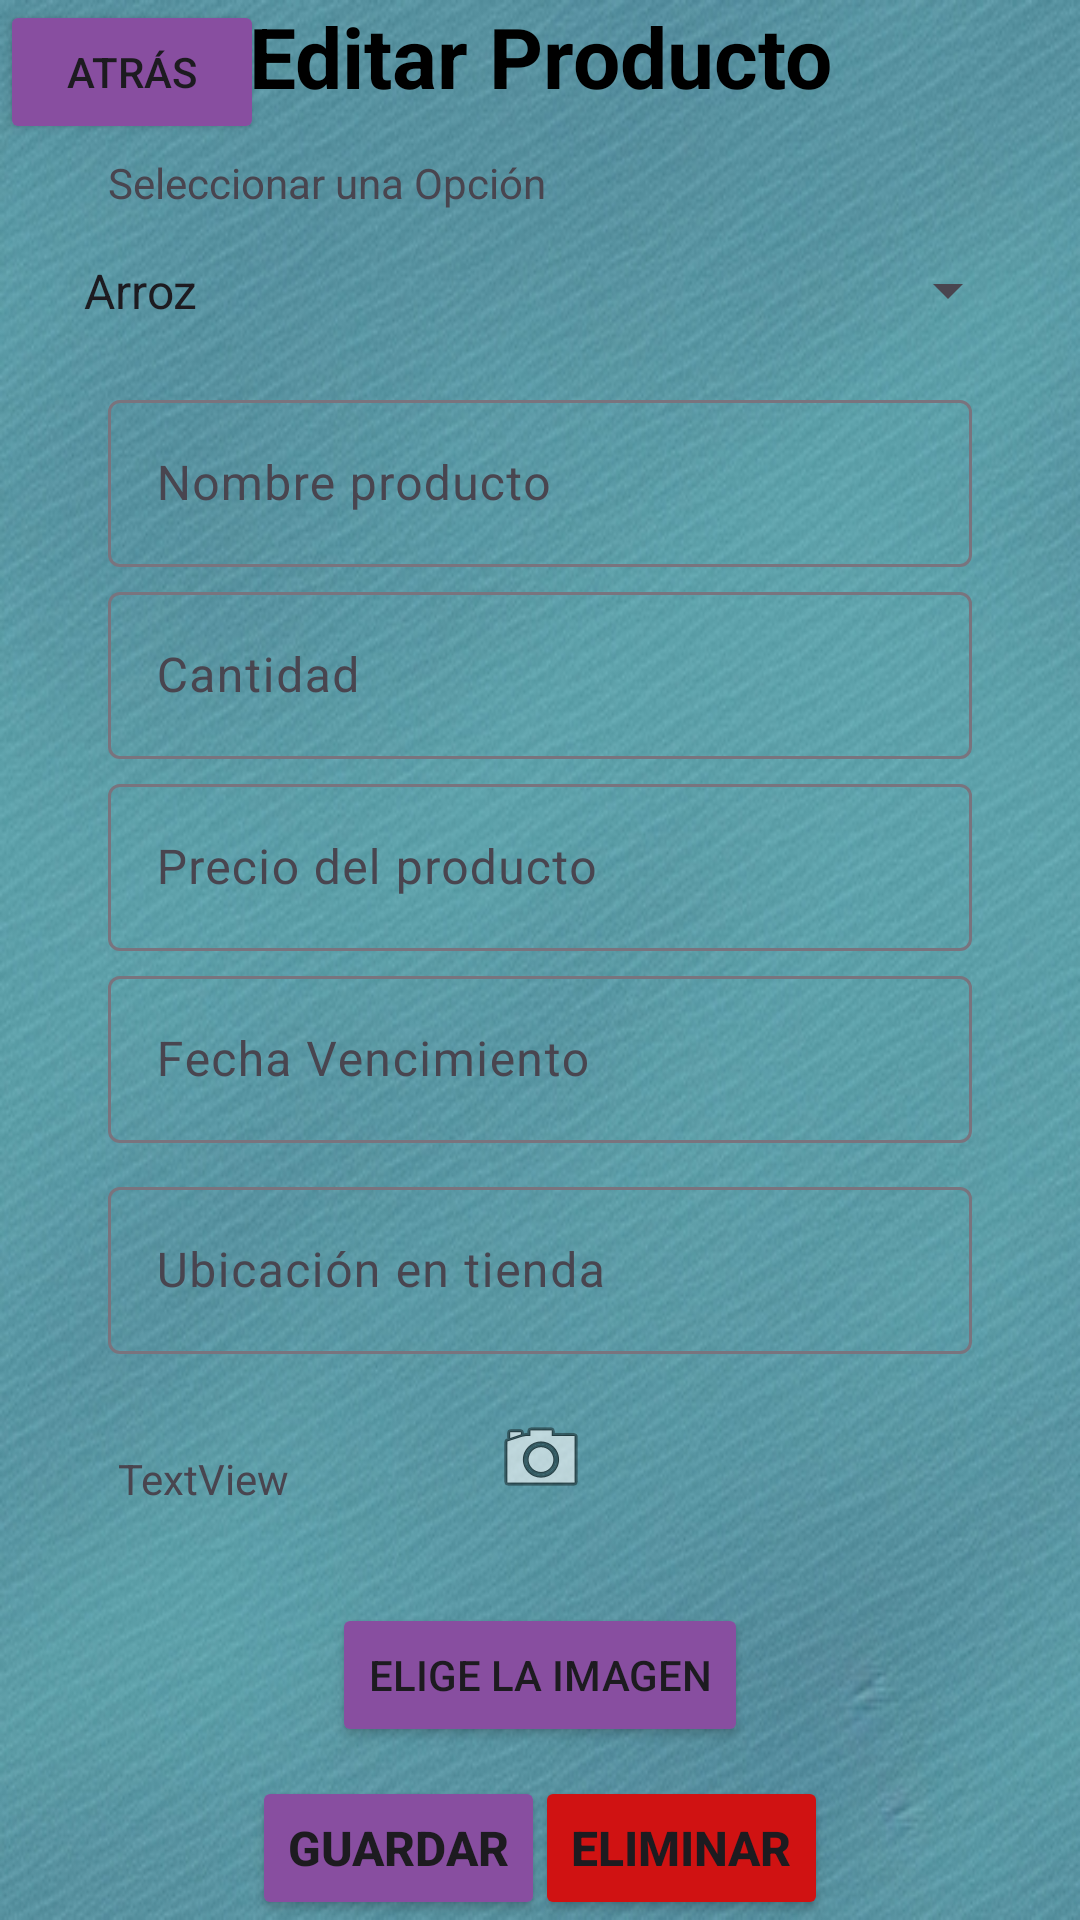

Where icons sit on this 1080px x 1920px app screen, as [x1=x1, y1=y1, x2=x2, y2=y2]:
camera: [x1=504, y1=1427, x2=578, y2=1486]
